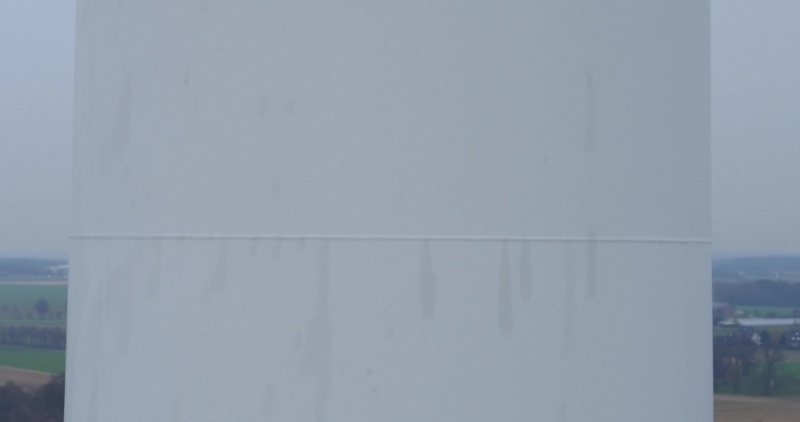weldseam: (66, 229, 712, 257)
